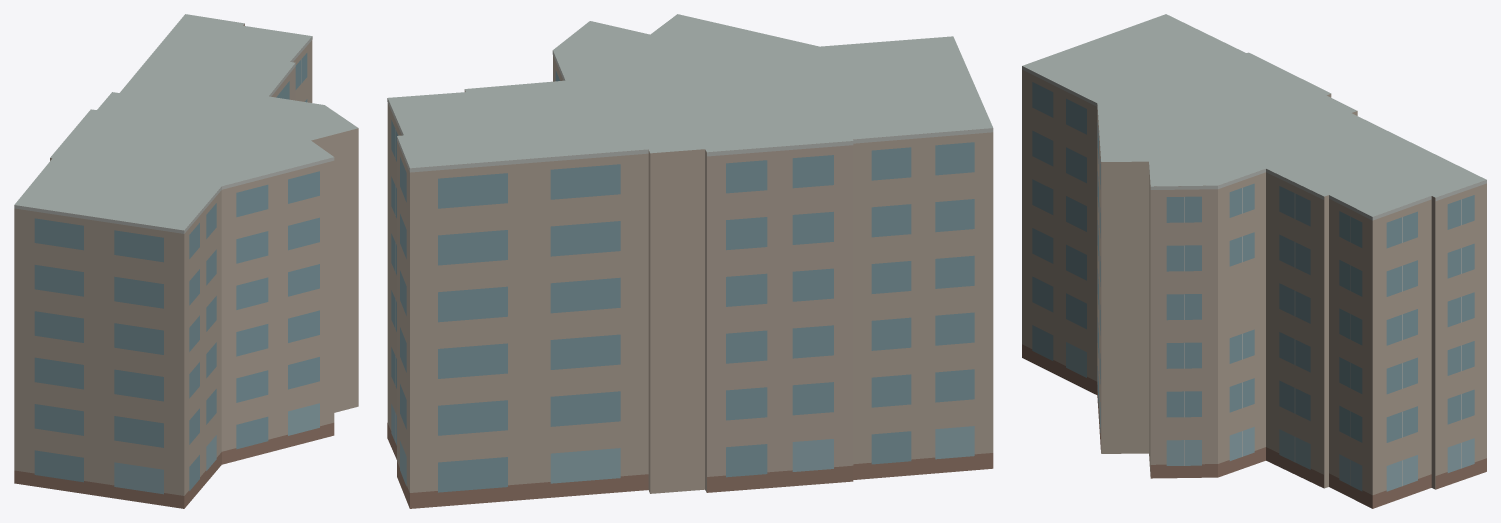
File: survey-upis-32545839.glb
3 views of the same model, side by side, from view 1: azimuth 30°, elevation 25°; view 2: azimuth 150°, elevation 25°; view 3: azimuth 270°, elevation 25° (orthographic). The views are drawn at different scales.
Parts seen in each view (by area): view 1: survey-upis-32545839.tmp; view 2: survey-upis-32545839.tmp; view 3: survey-upis-32545839.tmp.
Boxes of the visible parts, x1=… form: survey-upis-32545839.tmp: x1=14, y1=14, x2=358, y2=508; survey-upis-32545839.tmp: x1=387, y1=14, x2=993, y2=508; survey-upis-32545839.tmp: x1=1022, y1=14, x2=1486, y2=508.
Bounding box in the file's own units: 29.24 × 19.6 × 28.29.
